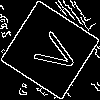V: (25, 25, 82, 78)
